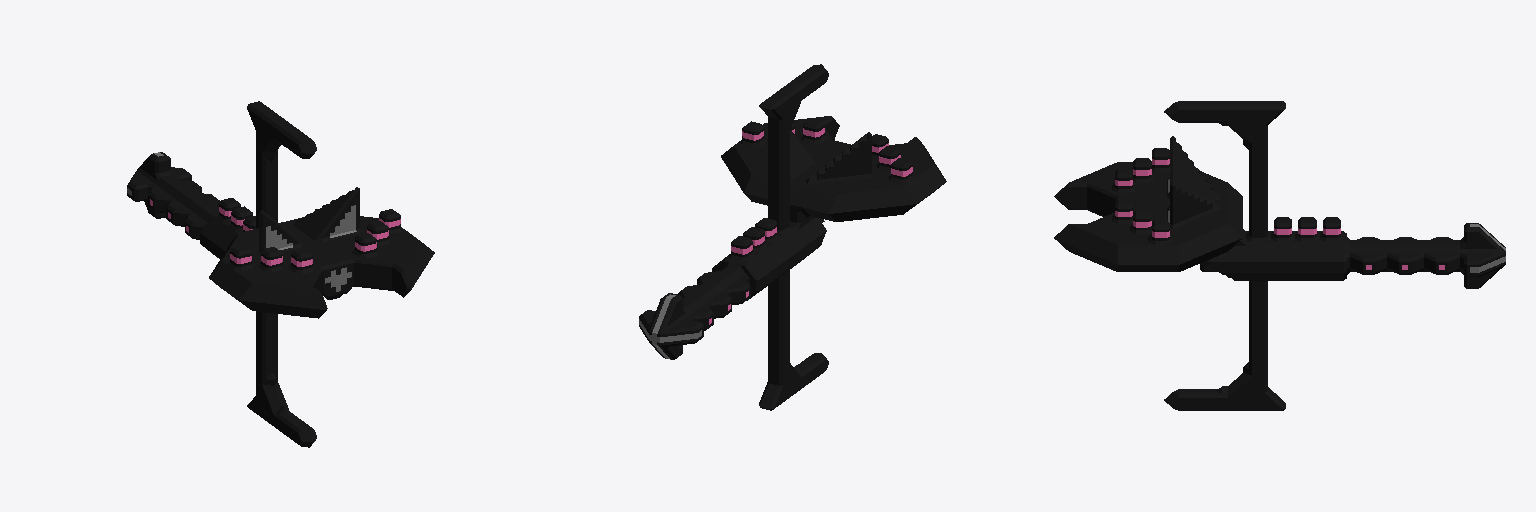
The picture shows the model from 3 angles: view 1: azimuth 30°, elevation 25°; view 2: azimuth 150°, elevation 25°; view 3: azimuth 270°, elevation 25°; orthographic projection.
Bounding box in the file's own units: 37 × 55 × 74.
1 materials, 1 textured.